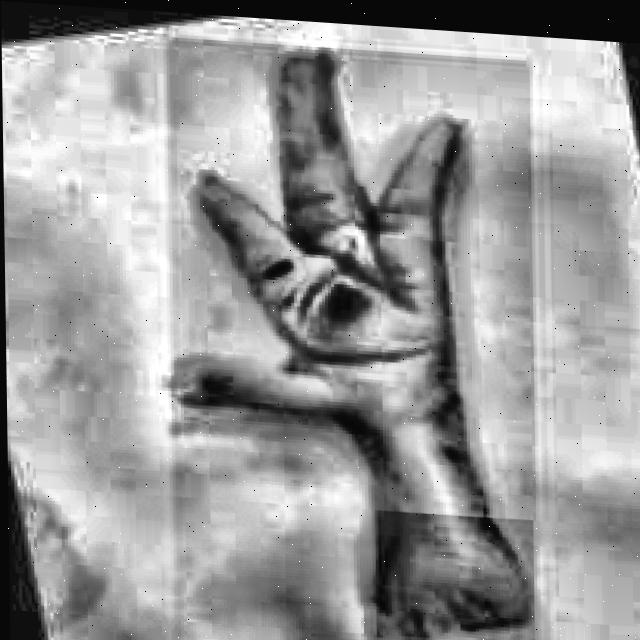Bumble foot: (299, 242, 393, 340)
